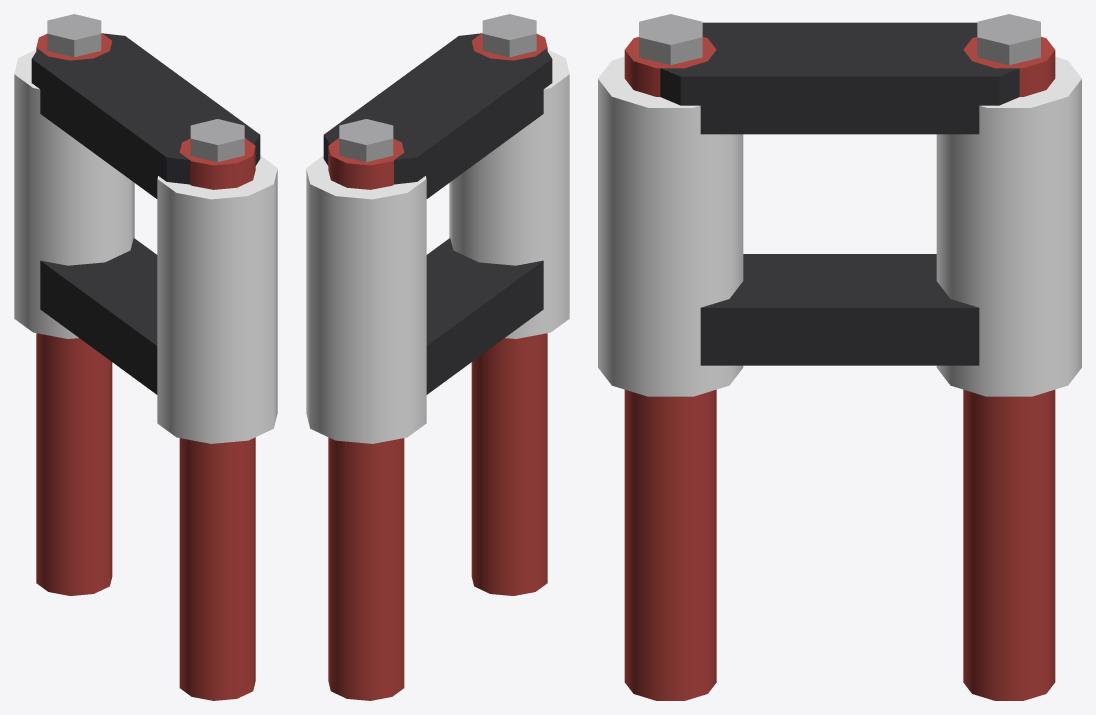
The model's file is bobber_wide_shroud_upper_lod1.glb.
The picture shows the model from 3 angles, left to right: view 1: azimuth 30°, elevation 25°; view 2: azimuth 150°, elevation 25°; view 3: azimuth 270°, elevation 25°; orthographic projection. The views are drawn at different scales.
Parts seen in each view (by area): view 1: bobber_wide_shroud_upper_lod1; view 2: bobber_wide_shroud_upper_lod1; view 3: bobber_wide_shroud_upper_lod1.
Boxes of the visible parts, box(x1,y1,x2,y2) form: bobber_wide_shroud_upper_lod1: box(14, 14, 277, 700); bobber_wide_shroud_upper_lod1: box(306, 14, 569, 700); bobber_wide_shroud_upper_lod1: box(598, 14, 1081, 700).
Bounding box in the file's own units: 0.0867 × 0.452 × 0.3036.
